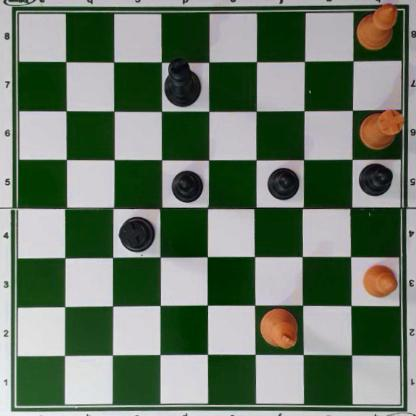black-king: (161, 56, 202, 106)
black-pawn: (358, 160, 393, 196), (169, 168, 204, 203), (266, 166, 300, 200)
black-rook: (118, 216, 156, 254)
white-bishop: (355, 1, 400, 50)
white-king: (258, 305, 297, 349)
white-pawn: (360, 262, 397, 299)
white-rook: (359, 108, 402, 149)
